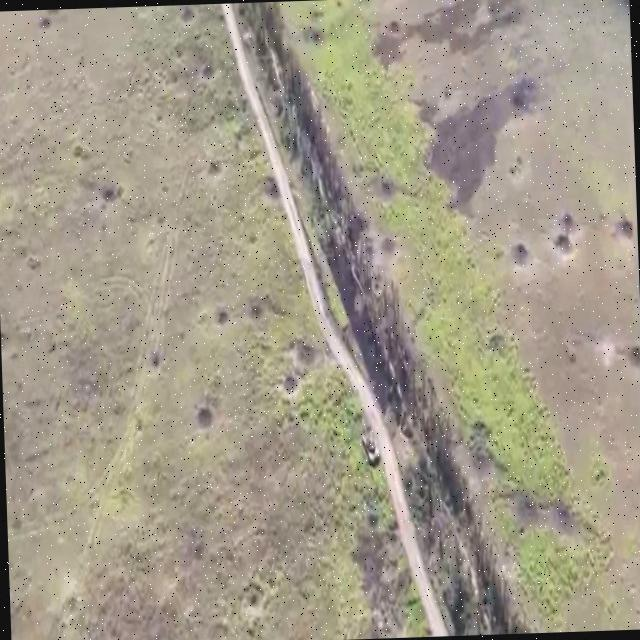MBT: (360, 418, 382, 474)
